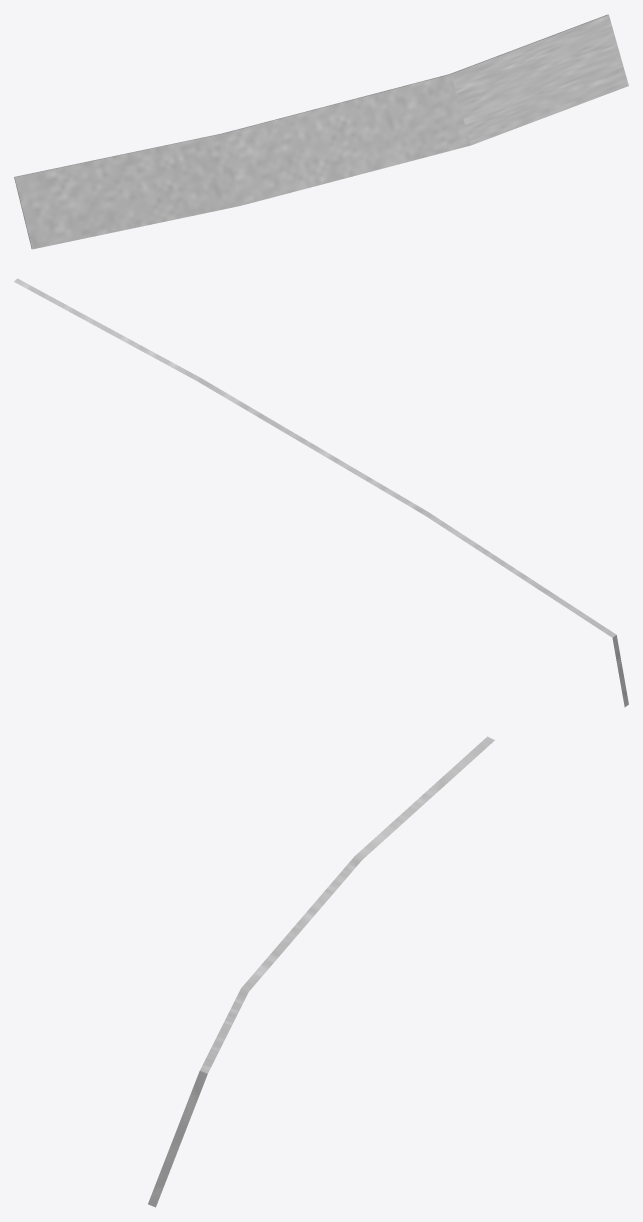
Rendered from Decor_Pocket_Right_V1.glb.
3 views of the same model, one above another, from view 1: azimuth 30°, elevation 25°; view 2: azimuth 150°, elevation 25°; view 3: azimuth 270°, elevation 25° (orthographic). The views are drawn at different scales.
Visible parts, largest first — view 1: Decor_Pocket_Right_V11; view 2: Decor_Pocket_Right_V11; view 3: Decor_Pocket_Right_V11.
Boxes of the visible parts, left/top/right/bottom form: Decor_Pocket_Right_V11: left=14, top=14, right=628, bottom=249; Decor_Pocket_Right_V11: left=14, top=278, right=628, bottom=707; Decor_Pocket_Right_V11: left=148, top=736, right=494, bottom=1207.
Bounding box in the file's own units: 0.0472 × 0.0129 × 0.0134.
Materials: 1 (1 with a texture image).
